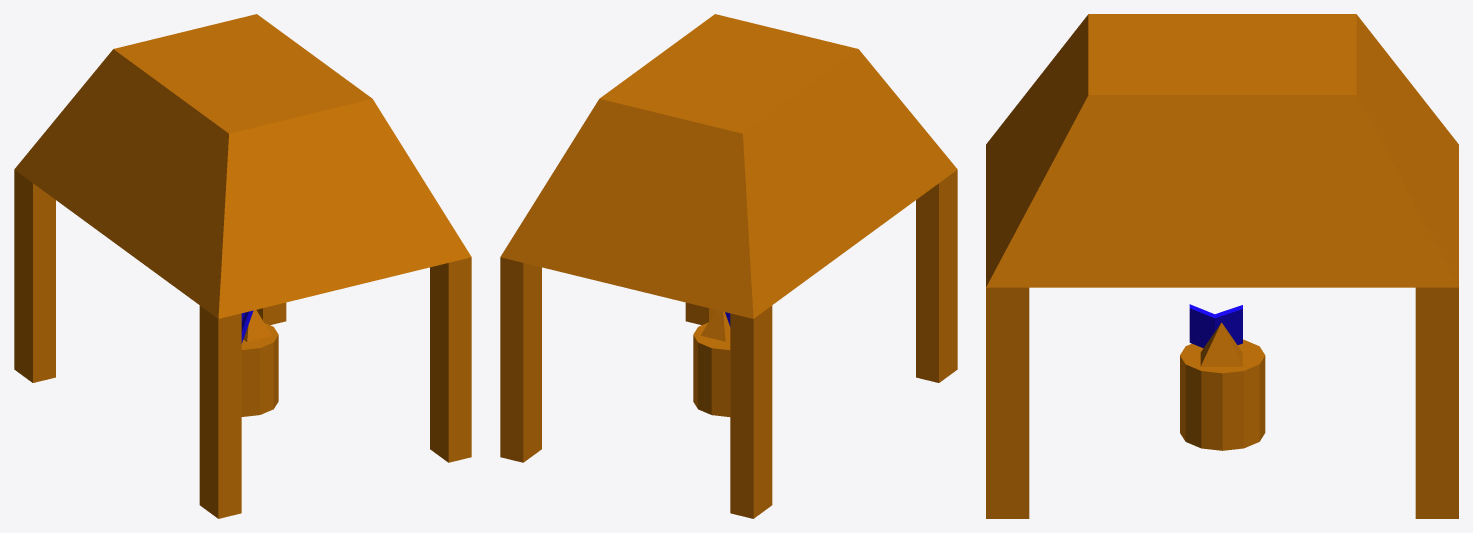
File: fbx_Building_Research01.FBX
3 renders of one model, left to right at view 1: azimuth 30°, elevation 25°; view 2: azimuth 150°, elevation 25°; view 3: azimuth 270°, elevation 25°, orthographic. The views are drawn at different scales.
Visible parts, largest first — view 1: mesh_Building_Research01; view 2: mesh_Building_Research01; view 3: mesh_Building_Research01.
Part boxes in pixels (x1,y1,x2,y2): mesh_Building_Research01: (14,14,471,518); mesh_Building_Research01: (500,14,957,518); mesh_Building_Research01: (986,14,1458,518).
Size of the model in its own units: 7.92 by 10.14 by 11.06.
